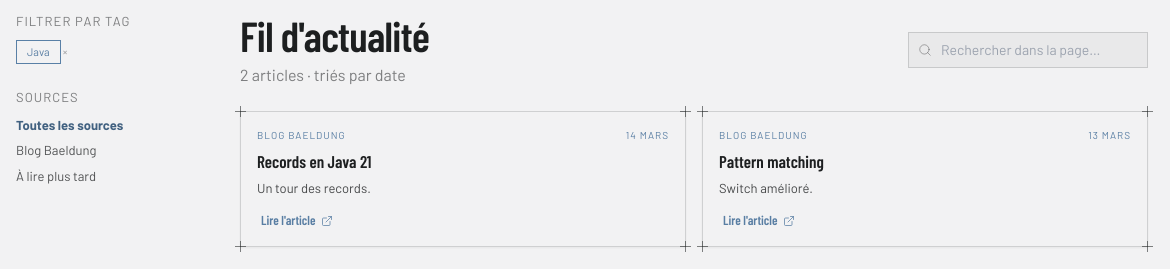
Dashboard › filtre les articles affichés via la recherche, sans nouvel appel API
Expected: the text "Records en Java 21" is shown, [257,151,371,171]
Type "pattern" into the search field with placeholder "Rechercher dans la page…" at (1028, 50), box [908,32,1148,68]
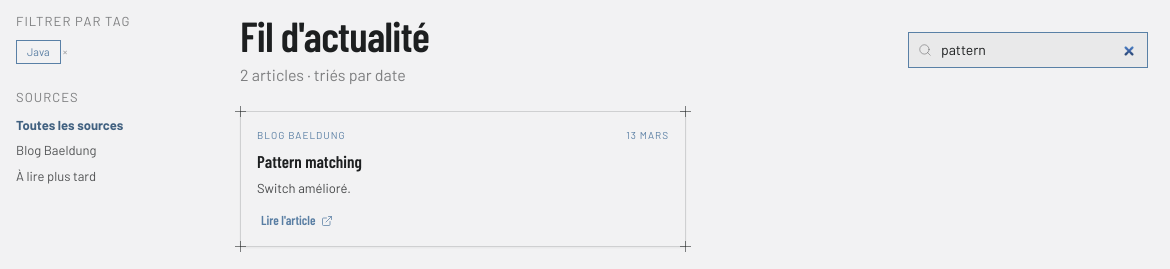
Expected: the text "Pattern matching" is shown, [257,151,362,171]
Expected: the text "Records en Java 21" is gone
